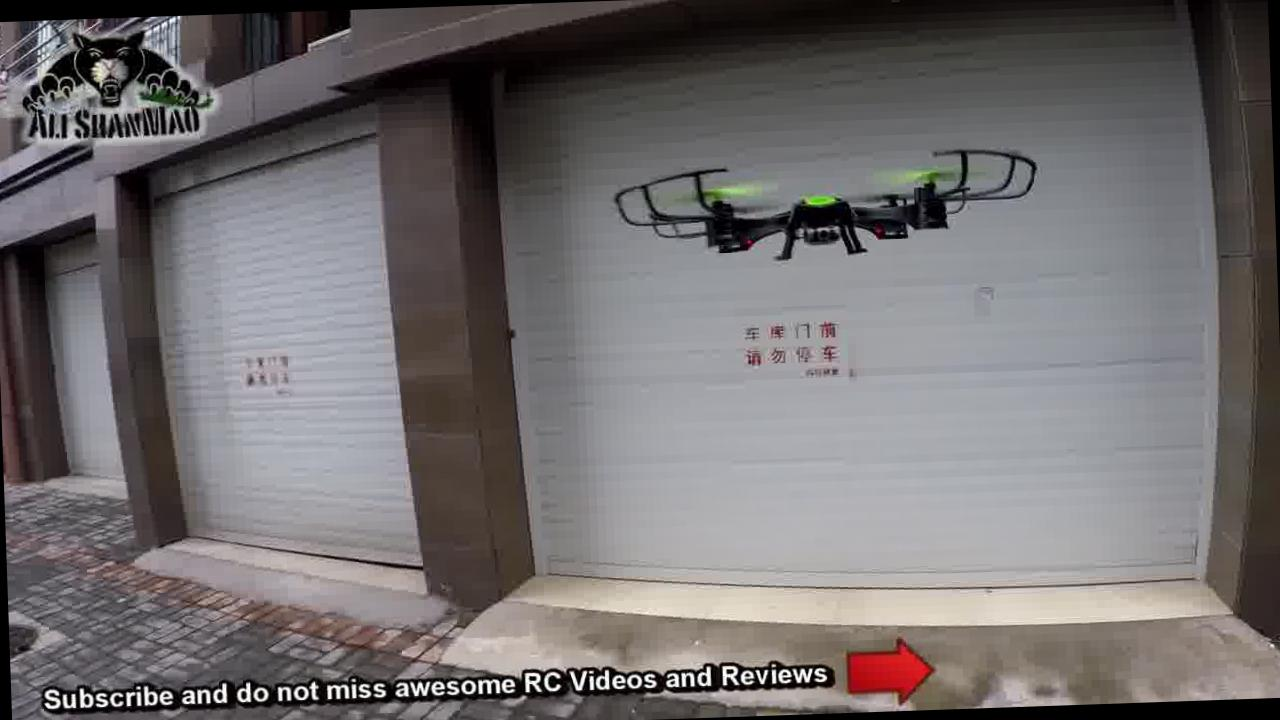drone: (622, 128, 1052, 278)
